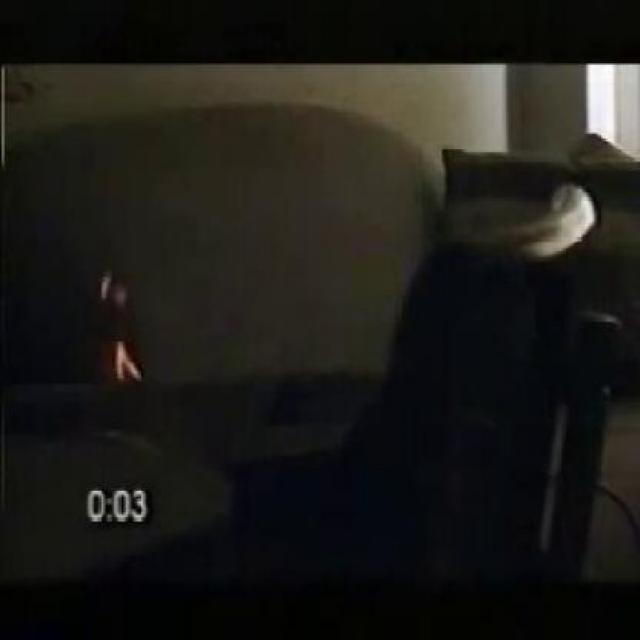fire: (90, 314, 150, 382)
